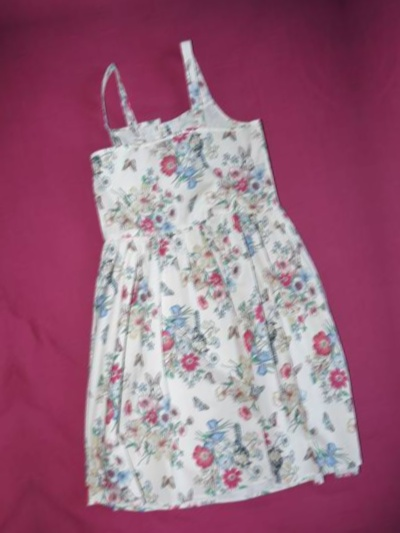Dress: (19, 44, 392, 533), (373, 0, 400, 485)
